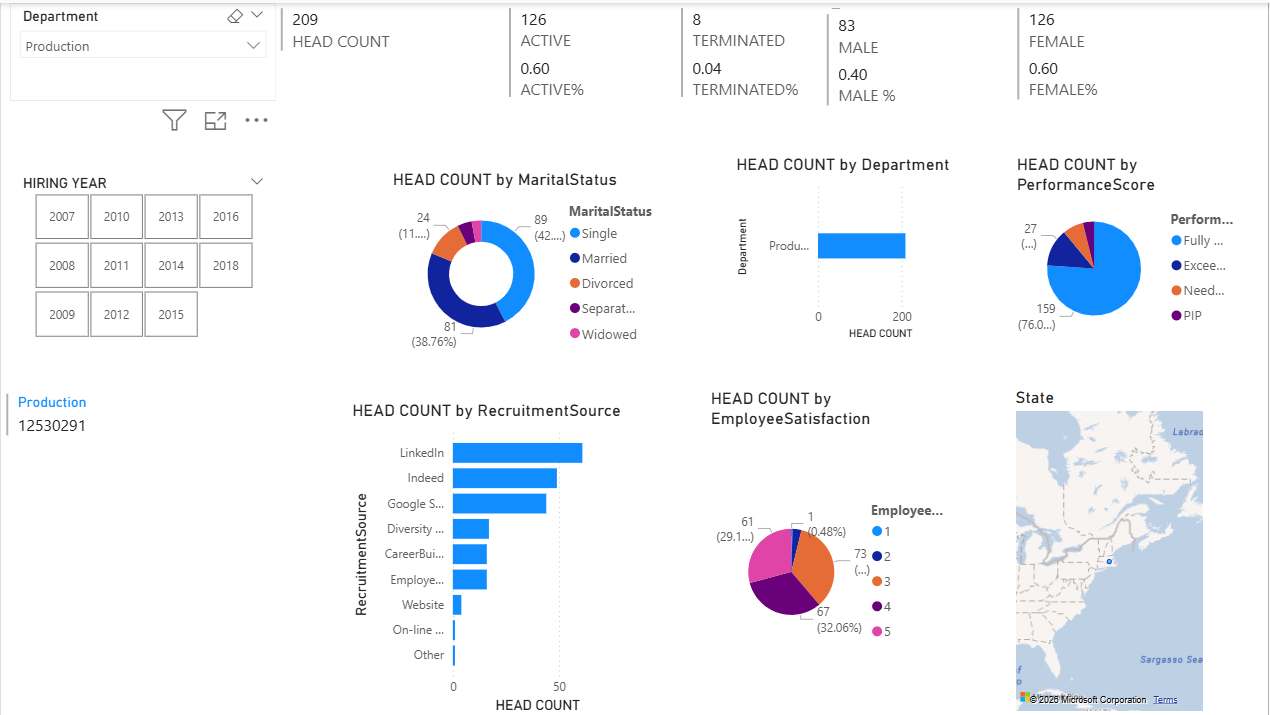

The page's visual inventory and layout, read from the dashboard file:
{"tool":"powerbi","page":{"name":"Page 1","canvas":[1280,720],"ordinal":0},"visuals":[{"type":"slicer","fields":{"Values":["HR Data.Department"]},"box":[9.4,0,268.3,98.3],"z":0},{"type":"slicer","fields":{"Values":["HR Data.HIRING YEAR"]},"box":[9.4,168.2,268.3,175.7],"z":1},{"type":"multiRowCard","fields":{"Values":["HR Data.HEAD COUNT"]},"box":[277.8,0,268.3,132.3],"z":2},{"type":"multiRowCard","fields":{"Values":["HR Data.ACTIVE","HR Data.ACTIVE%"]},"box":[506.9,0,203.9,99.1],"z":3},{"type":"multiRowCard","fields":{"Values":["HR Data.TERMINATED","HR Data.TERMINATED%"]},"box":[680.8,0,170.2,99.1],"z":4},{"type":"multiRowCard","fields":{"Values":["HR Data.MALE","HR Data.MALE %"]},"box":[827.7,5.7,228.7,107.7],"z":5},{"type":"multiRowCard","fields":{"Values":["HR Data.FEMALE","HR Data.FEMALE%"]},"box":[1020.5,0,232.4,132.3],"z":6},{"type":"multiRowCard","fields":{"Values":["Sum(HR Data.Salary)","HR Data.Department"]},"box":[0,389.3,215.4,313.7],"z":7},{"type":"donutChart","fields":{"Category":["HR Data.MaritalStatus"],"Y":["HR Data.HEAD COUNT"]},"box":[391.3,168.6,278.4,190.9],"z":8},{"type":"barChart","fields":{"Category":["HR Data.Department"],"Y":["HR Data.HEAD COUNT"]},"box":[737,153.1,228.7,190.9],"z":9},{"type":"pieChart","fields":{"Category":["HR Data.PerformanceScore"],"Y":["HR Data.HEAD COUNT"]},"box":[1020,153,232,191],"z":10},{"type":"clusteredBarChart","fields":{"Category":["HR Data.RecruitmentSource"],"Y":["HR Data.HEAD COUNT"]},"box":[349.9,400.8,289.5,319.7],"z":11},{"type":"pieChart","fields":{"Y":["HR Data.HEAD COUNT"],"Series":["HR Data.EmployeeSatisfaction"]},"box":[711,389.7,254.5,330.8],"z":12},{"type":"map","fields":{"Category":["HR Data.State"]},"box":[1019.6,388.1,198.8,332.4],"z":13}]}

Visuals, with their boxes in screenshot pixels (x1, y1, x2, y2), scaled from the page's 1280x720 canvas onto the 1270x715 screenshot:
slicer - HR Data.Department: (9, 0, 276, 98)
slicer - HR Data.HIRING YEAR: (9, 167, 276, 342)
multiRowCard - HR Data.HEAD COUNT: (276, 0, 542, 131)
multiRowCard - HR Data.ACTIVE x HR Data.ACTIVE%: (503, 0, 705, 98)
multiRowCard - HR Data.TERMINATED x HR Data.TERMINATED%: (675, 0, 844, 98)
multiRowCard - HR Data.MALE x HR Data.MALE %: (821, 6, 1048, 113)
multiRowCard - HR Data.FEMALE x HR Data.FEMALE%: (1013, 0, 1243, 131)
multiRowCard - Sum(HR Data.Salary) x HR Data.Department: (0, 387, 214, 698)
donutChart - HR Data.MaritalStatus x HR Data.HEAD COUNT: (388, 167, 664, 357)
barChart - HR Data.Department x HR Data.HEAD COUNT: (731, 152, 958, 342)
pieChart - HR Data.PerformanceScore x HR Data.HEAD COUNT: (1012, 152, 1242, 342)
clusteredBarChart - HR Data.RecruitmentSource x HR Data.HEAD COUNT: (347, 398, 634, 714)
pieChart - HR Data.HEAD COUNT x HR Data.EmployeeSatisfaction: (705, 387, 958, 714)
map - HR Data.State: (1012, 385, 1209, 714)
